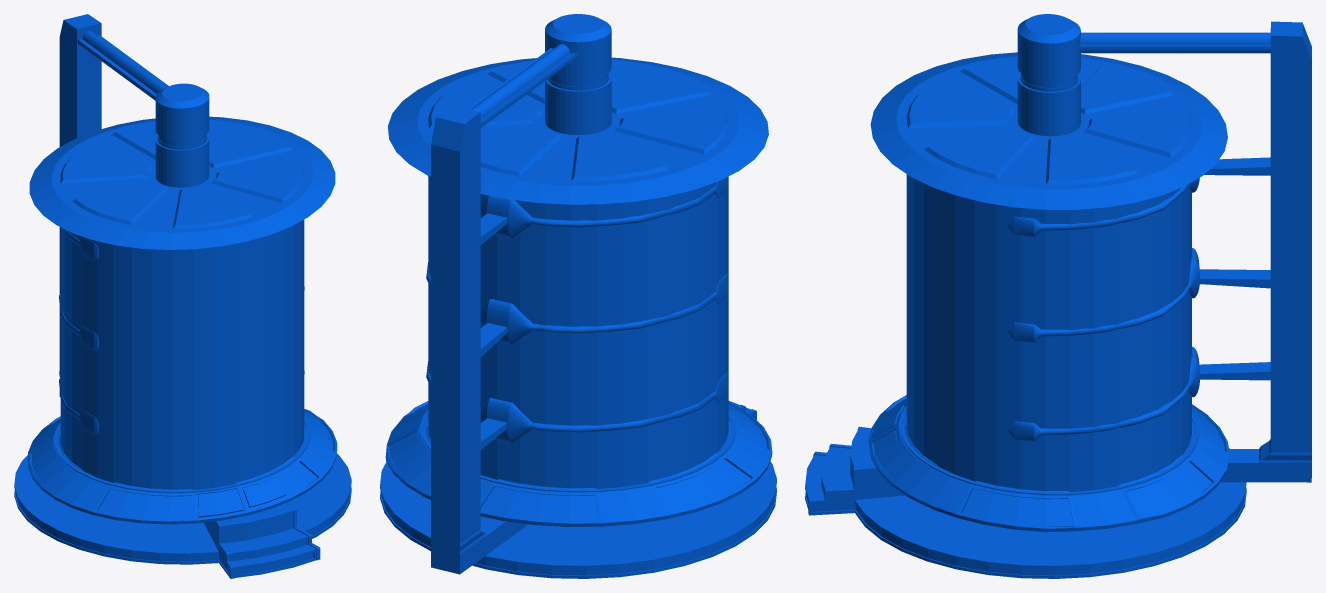
File: Sci Fi cilinder_c4d.fbx
3 renders of one model, left to right at view 1: azimuth 30°, elevation 25°; view 2: azimuth 150°, elevation 25°; view 3: azimuth 270°, elevation 25°, orthographic. The views are drawn at different scales.
Parts seen in each view (by area): view 1: Cylinder; view 2: Cylinder; view 3: Cylinder.
Boxes of the visible parts, box(x1,y1,x2,y2) form: Cylinder: box(14, 14, 351, 578); Cylinder: box(380, 14, 776, 578); Cylinder: box(805, 14, 1311, 578).
Bounding box in the file's own units: 899 × 1178 × 1150.
